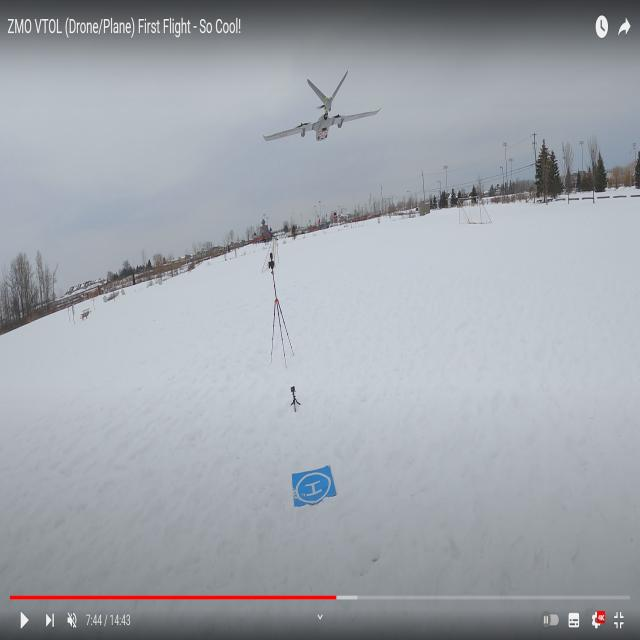iha: (292, 42, 351, 55)
